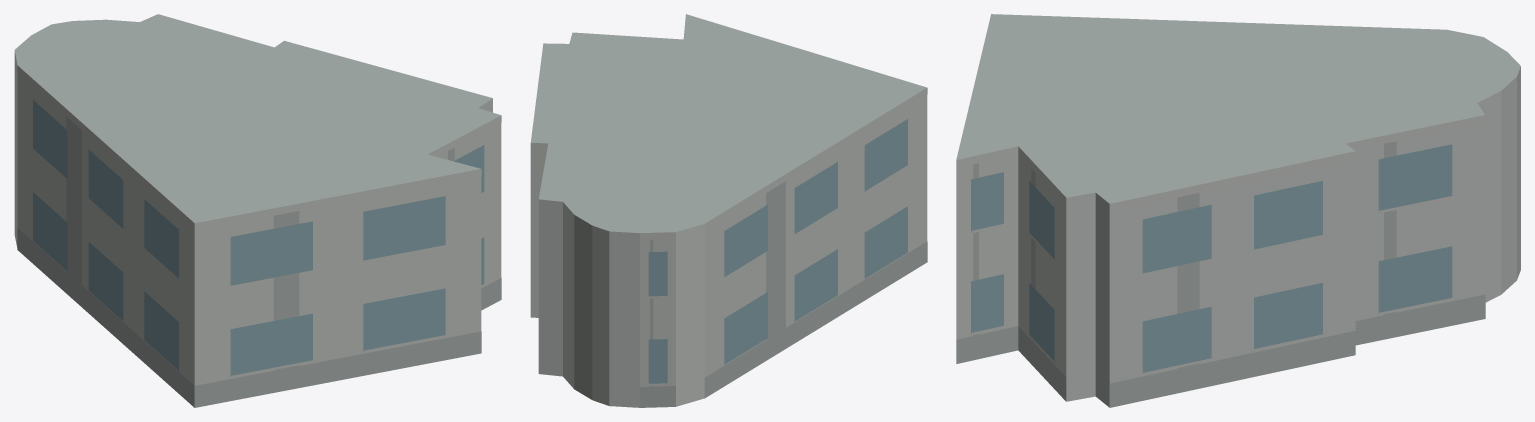
Rendered from survey-upis-32586416.glb.
The picture shows the model from 3 angles, left to right: view 1: azimuth 30°, elevation 25°; view 2: azimuth 150°, elevation 25°; view 3: azimuth 270°, elevation 25°; orthographic projection. The views are drawn at different scales.
Parts seen in each view (by area): view 1: survey-upis-32586416.tmp; view 2: survey-upis-32586416.tmp; view 3: survey-upis-32586416.tmp.
Part boxes in pixels (x1=…): survey-upis-32586416.tmp: x1=14, y1=14, x2=501, y2=407; survey-upis-32586416.tmp: x1=530, y1=14, x2=927, y2=407; survey-upis-32586416.tmp: x1=956, y1=14, x2=1520, y2=407.
Bounding box in the file's own units: 12.19 × 6.1 × 15.31.
